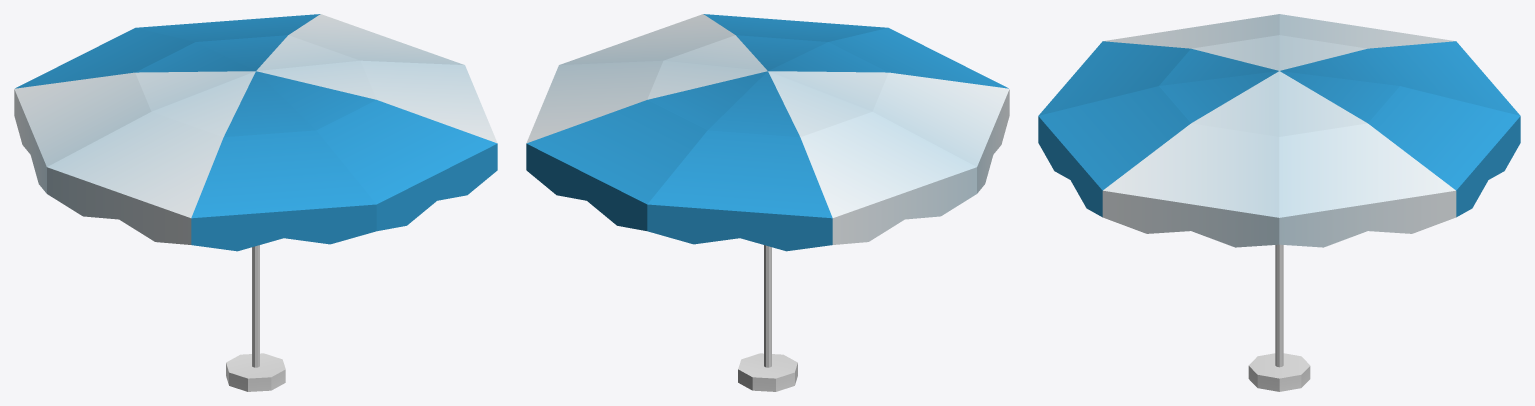
File: BeachGazebo.fbx
3 renders of one model, left to right at view 1: azimuth 30°, elevation 25°; view 2: azimuth 150°, elevation 25°; view 3: azimuth 270°, elevation 25°, orthographic.
Parts seen in each view (by area): view 1: BeachGazebo_LOD0; view 2: BeachGazebo_LOD0; view 3: BeachGazebo_LOD0.
Boxes of the visible parts, <box> form: BeachGazebo_LOD0: <box>14,14,497,391</box>; BeachGazebo_LOD0: <box>526,14,1009,391</box>; BeachGazebo_LOD0: <box>1038,14,1520,391</box>.
Size of what is drawn, in the model's own units: 274 by 193 by 274.
